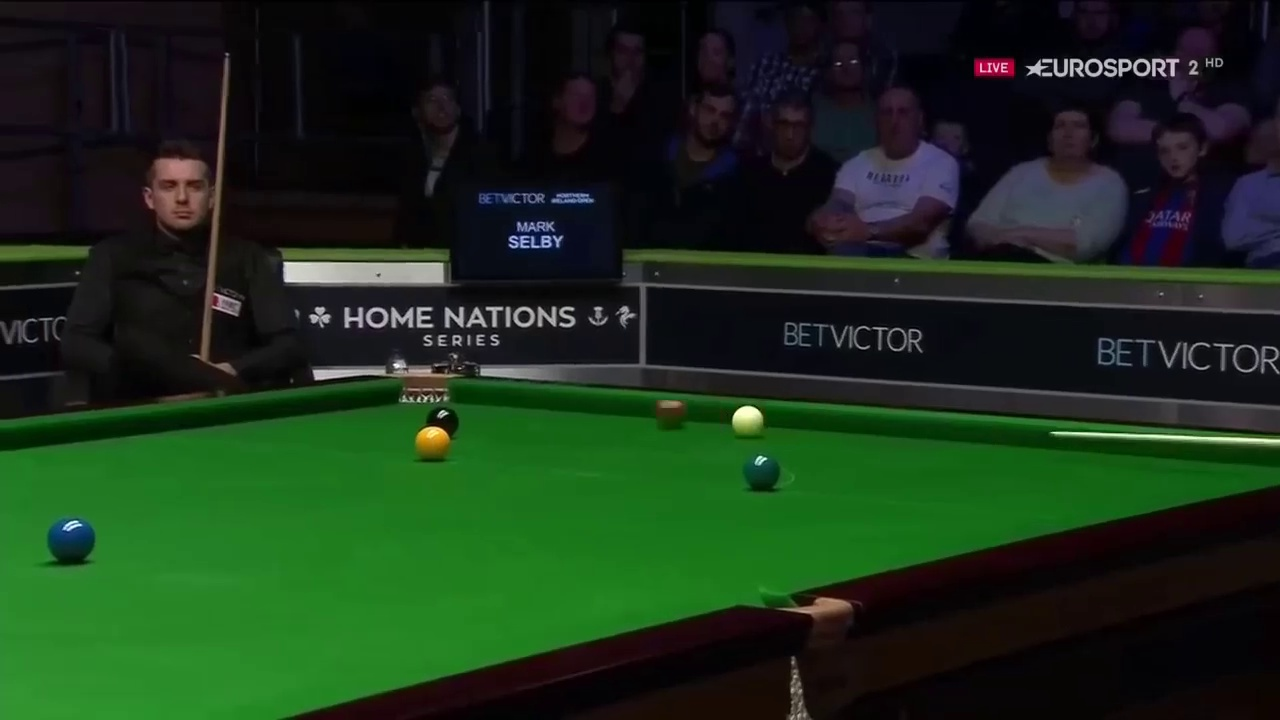blue: (43, 519, 95, 564)
brown: (657, 401, 684, 427)
green: (745, 455, 781, 492)
white: (728, 404, 764, 438)
yellow: (412, 427, 451, 458)
